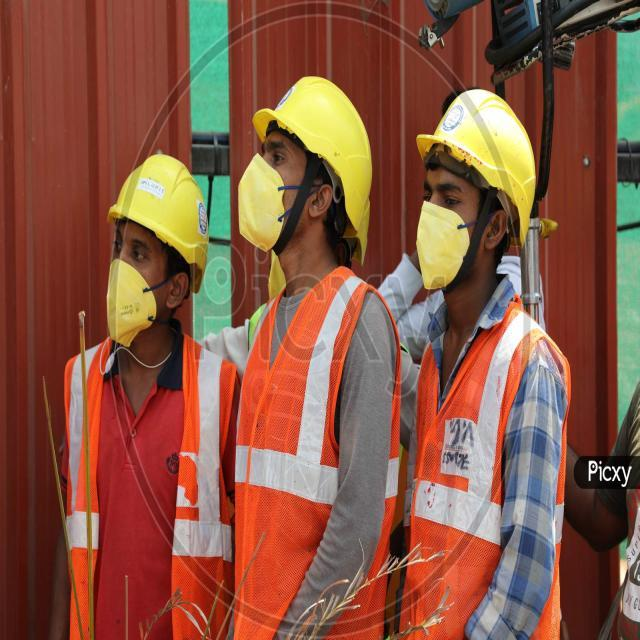helmet: (260, 86, 391, 236), (437, 78, 549, 205), (114, 163, 220, 273)
jacket: (58, 344, 225, 640), (250, 302, 393, 614), (430, 314, 553, 632)
